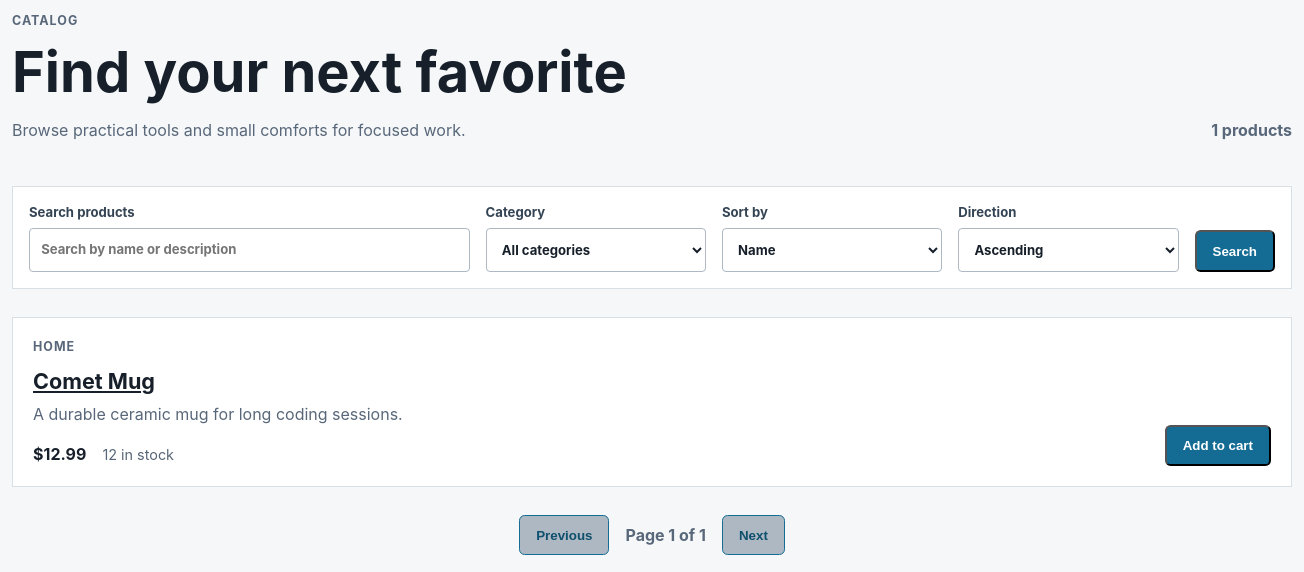
Scenario: cart and checkout › keeps cart state and exposes a server stock conflict
The width and height of the screenshot is (1304, 572).
Click the button "Add to cart": click(1218, 446) [1165,425,1271,466]
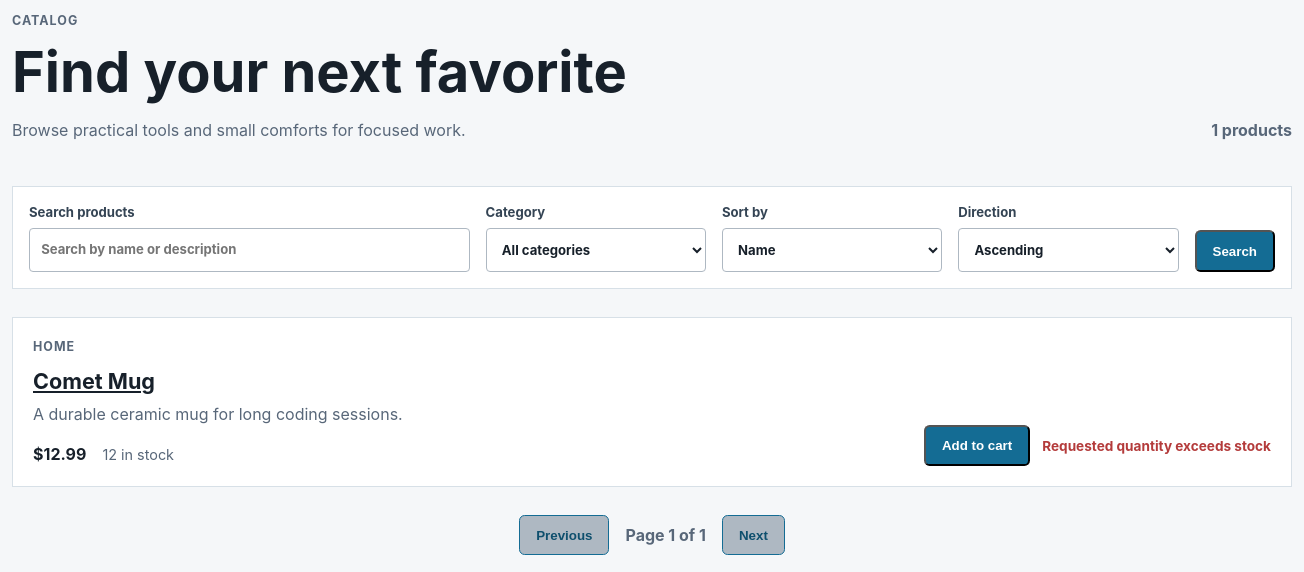
Expected: the message reads "Requested quantity exceeds stock", [1042,438,1271,454]
